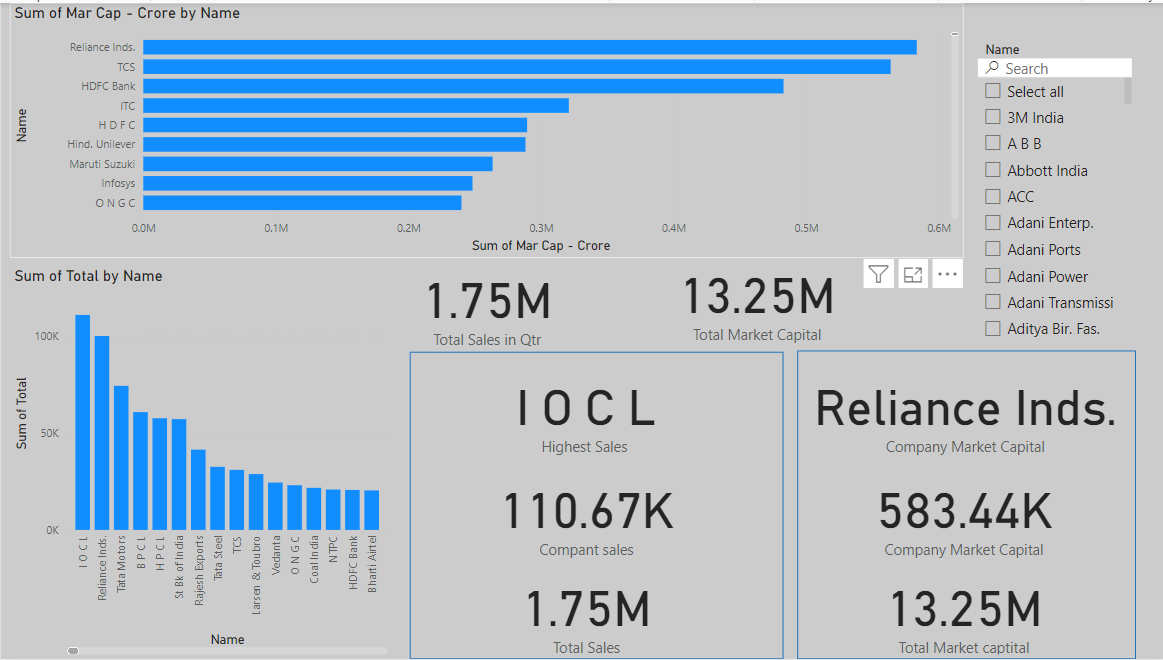

What the dashboard file says about the page in this screenshot:
{"tool":"powerbi","page":{"name":"Page 1","canvas":[1280,720],"ordinal":0},"visuals":[{"type":"shape","box":[874.1,381.5,371.9,338.9],"z":0},{"type":"barChart","fields":{"Category":["Financial Analytics data.Name"],"Y":["Sum(Financial Analytics data.Mar Cap - Crore)"]},"box":[9.6,0,1047,279.9],"z":1000},{"type":"columnChart","fields":{"Category":["Financial Analytics data.Name"],"Y":["Sum(Financial Analytics data.Total)"]},"box":[9.6,289.5,419.9,430.9],"z":2000},{"type":"slicer","fields":{"Values":["Financial Analytics data.Name"]},"box":[1067.6,37,178.4,344.4],"z":3000},{"type":"card","fields":{"Values":["Sum(Financial Analytics data.Mar Cap - Crore)"]},"box":[717.7,269,225,112.5],"z":4000},{"type":"card","fields":{"Values":["Sum(Financial Analytics data.Total)"]},"box":[417.2,279.9,233.3,101.5],"z":5000},{"type":"card","title":"Highest Market Cap","fields":{"Values":["Min(Financial Analytics data.Name)"]},"box":[881,391.1,355.4,113.9],"z":6000,"group":"g1"},{"type":"card","fields":{"Values":["Sum(Financial Analytics data.Mar Cap - Crore)"]},"box":[881,505,352.7,112.5],"z":7000,"group":"g1"},{"type":"card","fields":{"Values":["Sum(Financial Analytics data.Total)"]},"box":[440.5,505,404.8,112.5],"z":8000},{"type":"card","fields":{"Values":["Min(Financial Analytics data.Name)"]},"box":[440.5,392.5,404.8,112.5],"z":9000},{"type":"card","fields":{"Values":["Sum(Financial Analytics data.Mar Cap - Crore)"]},"box":[881,617.5,352.7,102.9],"z":10000,"group":"g1"},{"type":"card","fields":{"Values":["Sum(Financial Analytics data.Total)"]},"box":[440.5,617.5,404.8,102.9],"z":11000},{"type":"shape","box":[448.7,382.4,410.3,337.6],"z":11003},{"type":"group","id":"g1","title":"Group 1","box":[881,391.1,355.4,329.3],"z":11003}]}

Visuals, with their boxes in screenshot pixels (x1, y1, x2, y2), scaled from the page's 1280x720 canvas onto the 1163x660 screenshot:
shape: [x1=794, y1=350, x2=1132, y2=659]
barChart - Financial Analytics data.Name x Sum(Financial Analytics data.Mar Cap - Crore): [x1=9, y1=0, x2=960, y2=257]
columnChart - Financial Analytics data.Name x Sum(Financial Analytics data.Total): [x1=9, y1=265, x2=390, y2=659]
slicer - Financial Analytics data.Name: [x1=970, y1=34, x2=1132, y2=350]
card - Sum(Financial Analytics data.Mar Cap - Crore): [x1=652, y1=247, x2=857, y2=350]
card - Sum(Financial Analytics data.Total): [x1=379, y1=257, x2=591, y2=350]
"Highest Market Cap" card: [x1=800, y1=359, x2=1123, y2=463]
card - Sum(Financial Analytics data.Mar Cap - Crore): [x1=800, y1=463, x2=1121, y2=566]
card - Sum(Financial Analytics data.Total): [x1=400, y1=463, x2=768, y2=566]
card - Min(Financial Analytics data.Name): [x1=400, y1=360, x2=768, y2=463]
card - Sum(Financial Analytics data.Mar Cap - Crore): [x1=800, y1=566, x2=1121, y2=659]
card - Sum(Financial Analytics data.Total): [x1=400, y1=566, x2=768, y2=659]
shape: [x1=408, y1=351, x2=780, y2=659]
"Group 1" group: [x1=800, y1=359, x2=1123, y2=659]
